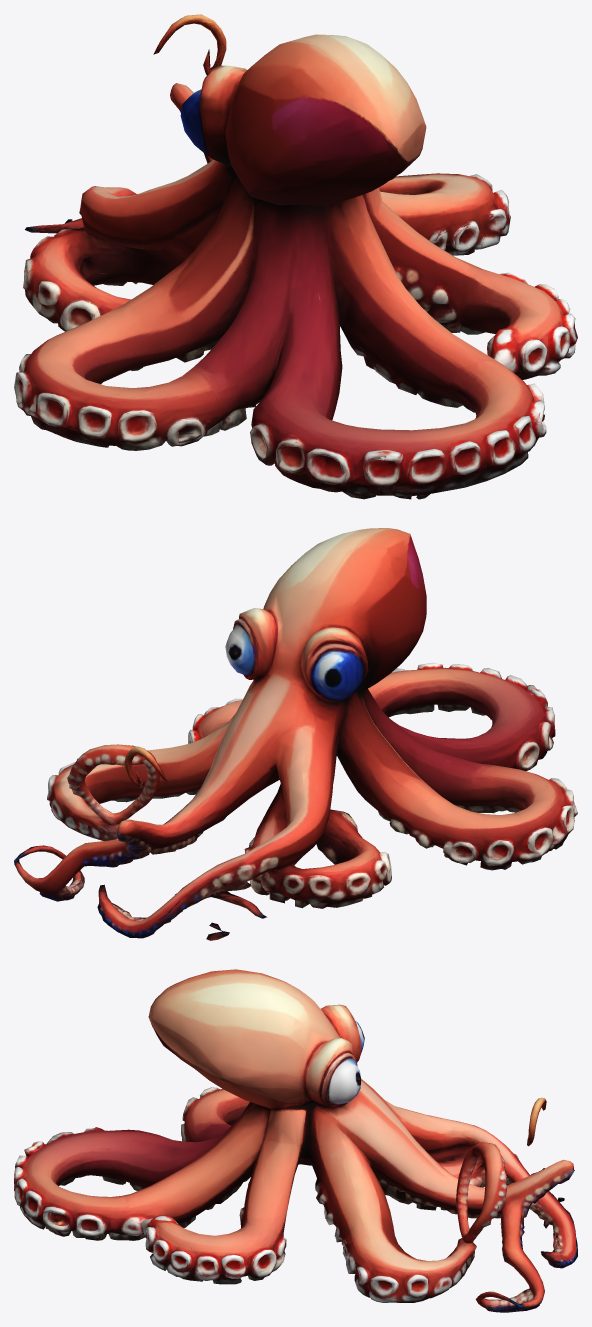
Rendered from squid.glb.
The picture shows the model from 3 angles, top to bottom: view 1: azimuth 30°, elevation 25°; view 2: azimuth 150°, elevation 25°; view 3: azimuth 270°, elevation 25°; orthographic projection. The views are drawn at different scales.
Bounding box in the file's own units: 0.8307 × 0.5271 × 1.
Materials: 1 (1 with a texture image).
